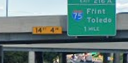1: (33, 26, 38, 34)
4: (48, 26, 56, 34), (35, 25, 42, 34)
overheadsign: (31, 25, 64, 35)
